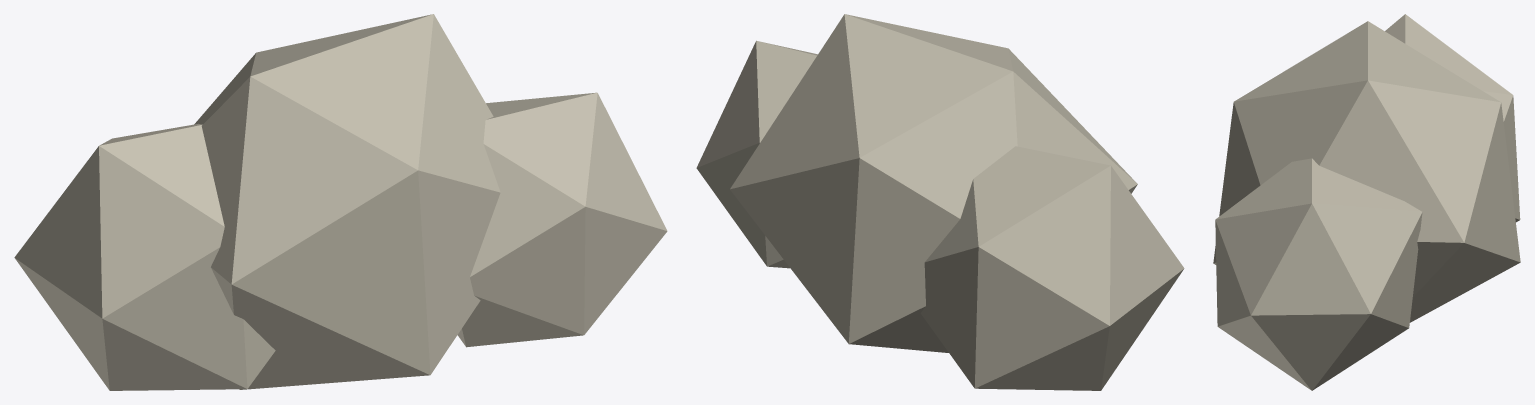
The model's file is dust.glb.
The picture shows the model from 3 angles, left to right: view 1: azimuth 30°, elevation 25°; view 2: azimuth 150°, elevation 25°; view 3: azimuth 270°, elevation 25°; orthographic projection. The views are drawn at different scales.
Visible parts, largest first — view 1: dust; view 2: dust; view 3: dust.
Boxes of the visible parts, x1,y1,x2,y2 form: dust: (14,14,667,390); dust: (696,14,1184,390); dust: (1213,14,1520,390).
Bounding box in the file's own units: 0.2646 × 0.1608 × 0.1649.
